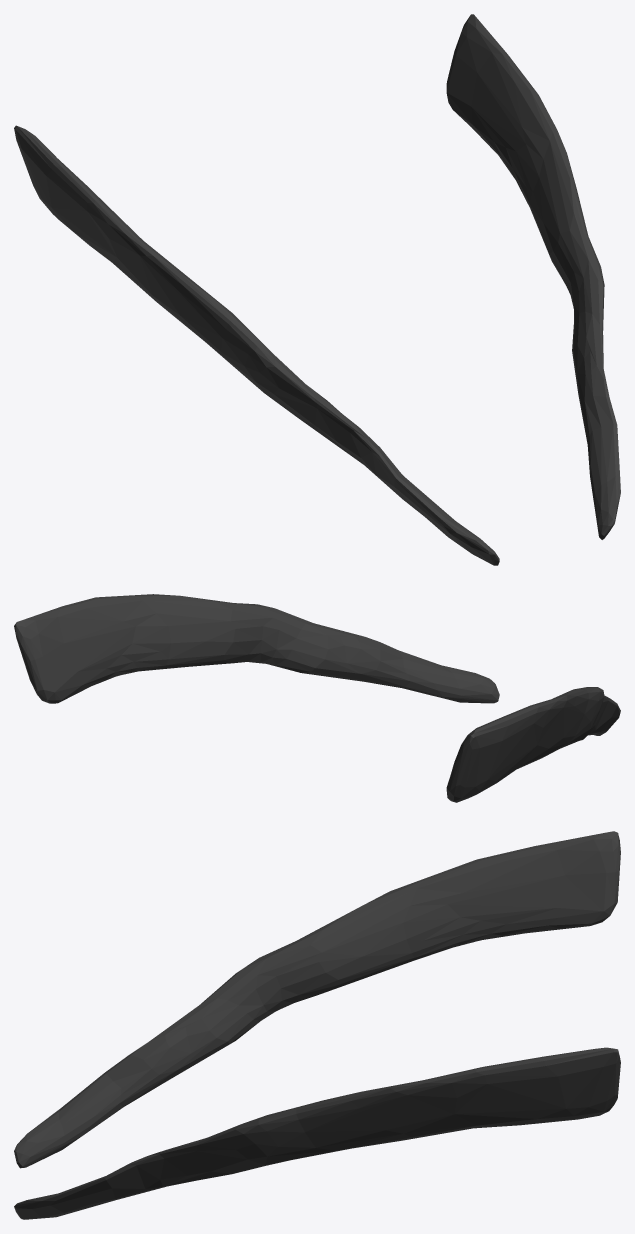
Rendered from m_scalenus_medius.glb.
3 views of the same model, one above another, from view 1: azimuth 30°, elevation 25°; view 2: azimuth 150°, elevation 25°; view 3: azimuth 270°, elevation 25° (orthographic). The views are drawn at different scales.
Parts seen in each view (by area): view 1: m_scalenus_medius; view 2: m_scalenus_medius; view 3: m_scalenus_medius.
Boxes of the visible parts, x1,y1,x2,y2 form: m_scalenus_medius: (14, 14, 620, 565); m_scalenus_medius: (14, 594, 620, 802); m_scalenus_medius: (14, 831, 620, 1219).
Size of the model in its own units: 0.00307 by 0.00166 by 0.0036.
Materials: 1 (1 with a texture image).
